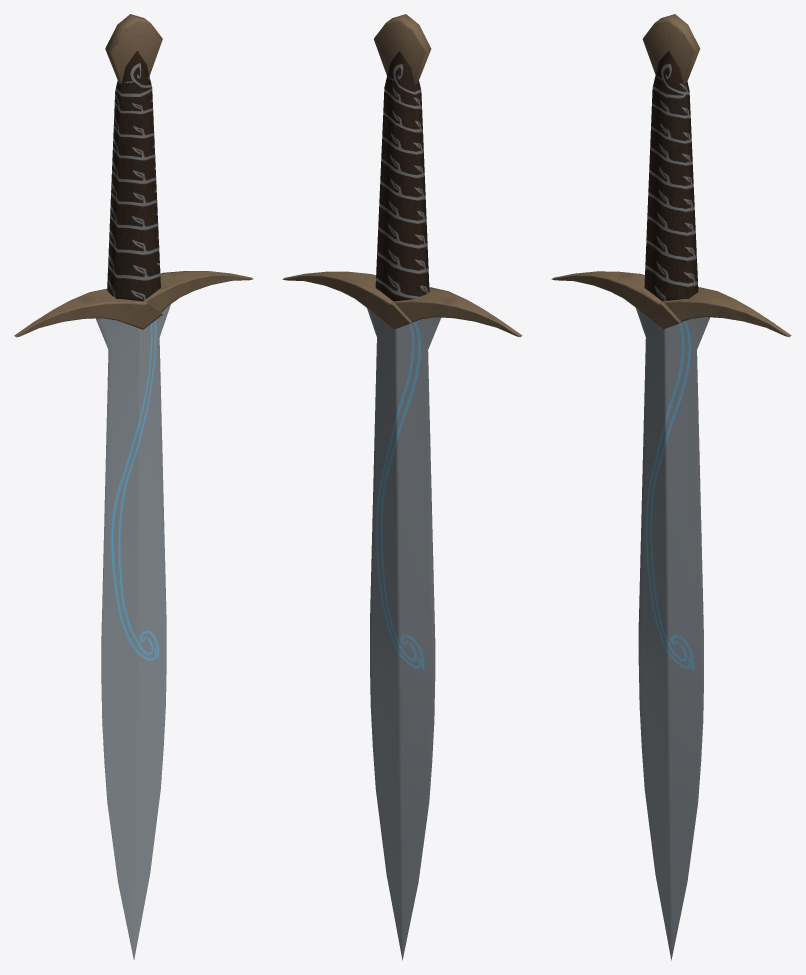
The model's file is sting.glb.
3 renders of one model, left to right at view 1: azimuth 30°, elevation 25°; view 2: azimuth 150°, elevation 25°; view 3: azimuth 330°, elevation 25°, orthographic.
Visible parts, largest first — view 1: Sting, Grip, Guard, Pommel; view 2: Sting, Grip, Guard, Pommel; view 3: Sting, Grip, Guard, Pommel.
Part boxes in pixels (box(x1,y1,x2,y2)): Sting: box(95, 304, 170, 959); Grip: box(107, 50, 160, 301); Guard: box(14, 271, 253, 337); Pommel: box(105, 14, 162, 83); Sting: box(367, 308, 440, 960); Grip: box(375, 51, 429, 301); Guard: box(282, 271, 522, 337); Pommel: box(374, 14, 431, 83); Sting: box(636, 308, 710, 960); Grip: box(644, 51, 698, 301); Guard: box(551, 271, 791, 337); Pommel: box(642, 14, 700, 83).
Bounding box in the file's own units: 1.25 × 4.75 × 0.2205.
4 materials, 4 textured.
